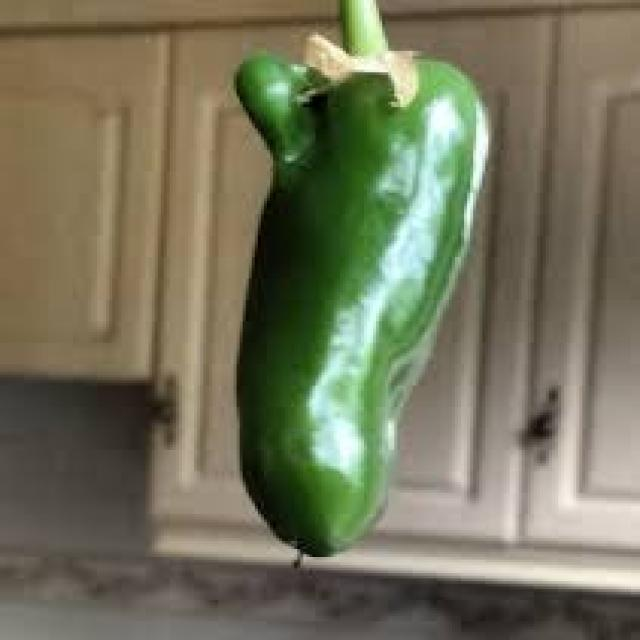bell_pepper: (216, 43, 493, 566)
